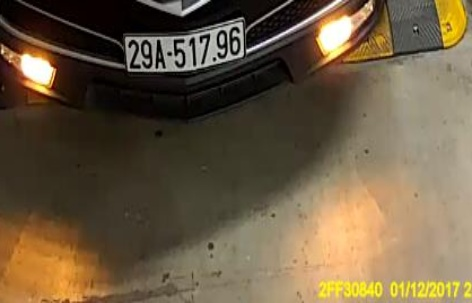plate: (122, 24, 247, 78)
